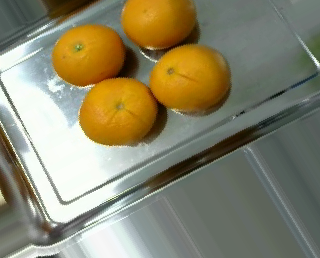Orange: (150, 43, 231, 113), (79, 77, 157, 146), (52, 23, 124, 87), (120, 1, 198, 49)
